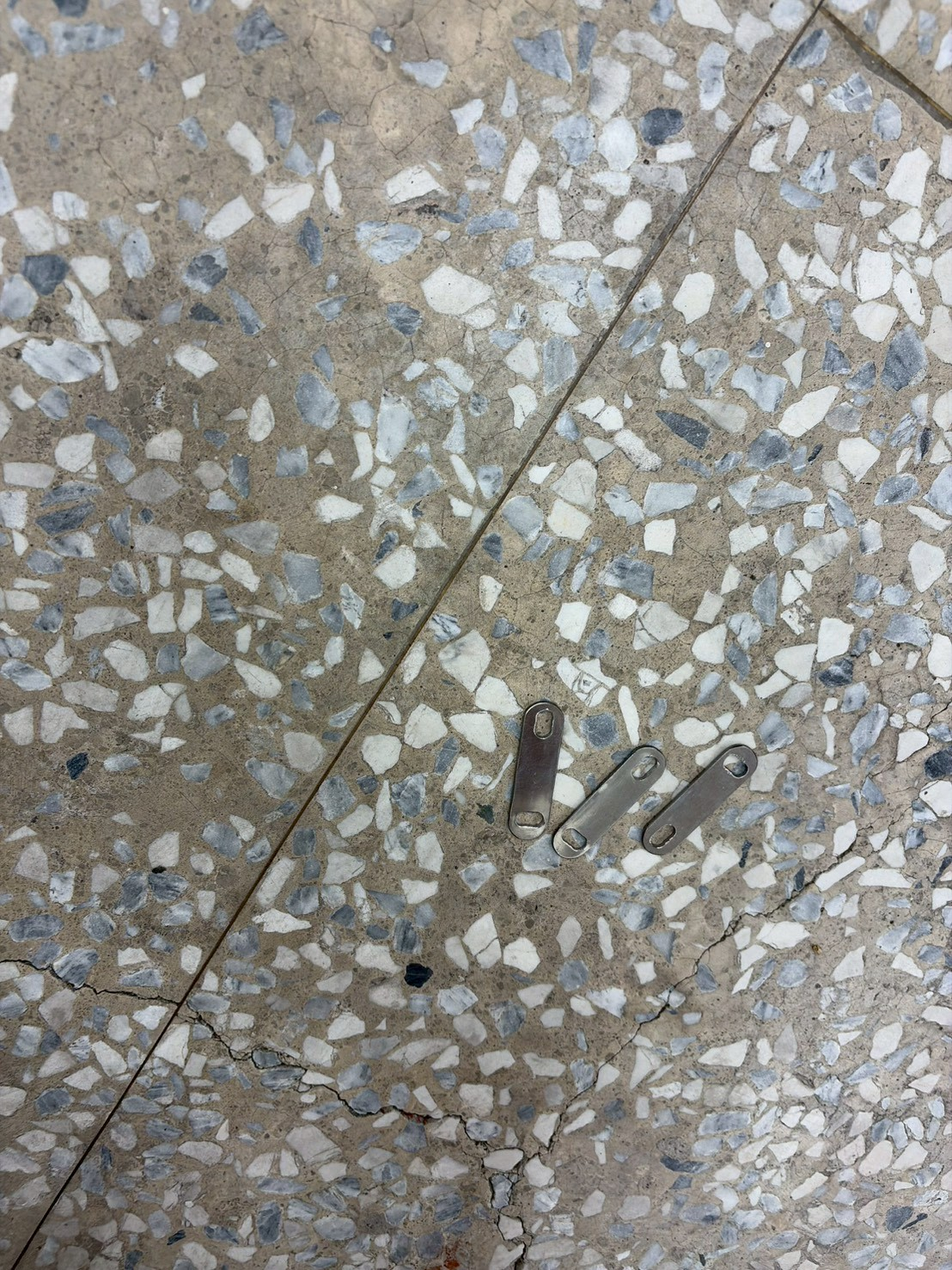Fe: (736, 731, 784, 882), (520, 691, 568, 841), (646, 731, 693, 882)
